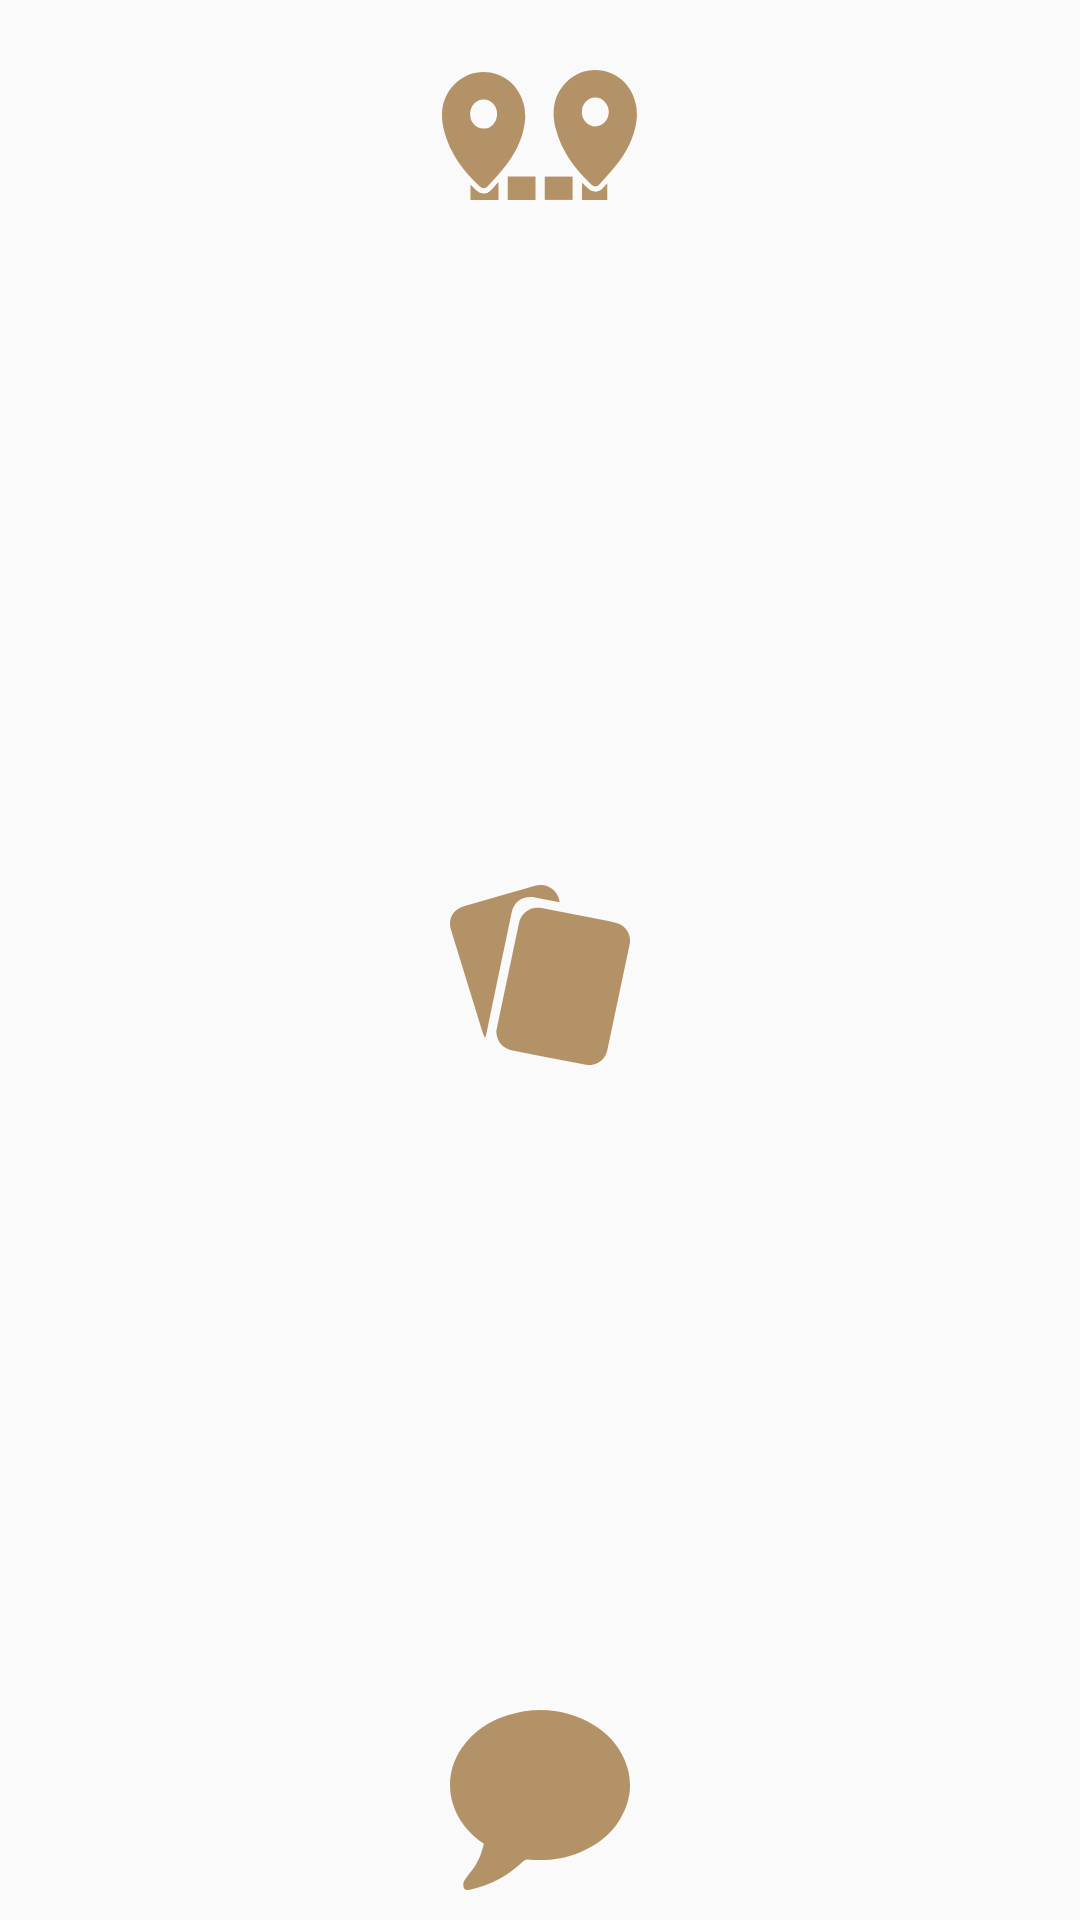

Named icons in this screenshot (1080*1920) and their bounding boxes, BBox(x1, y1, x2, y2):
cards: BBox(450, 885, 630, 1065)
chat: BBox(450, 1710, 630, 1890)
destination: BBox(442, 70, 637, 200)
